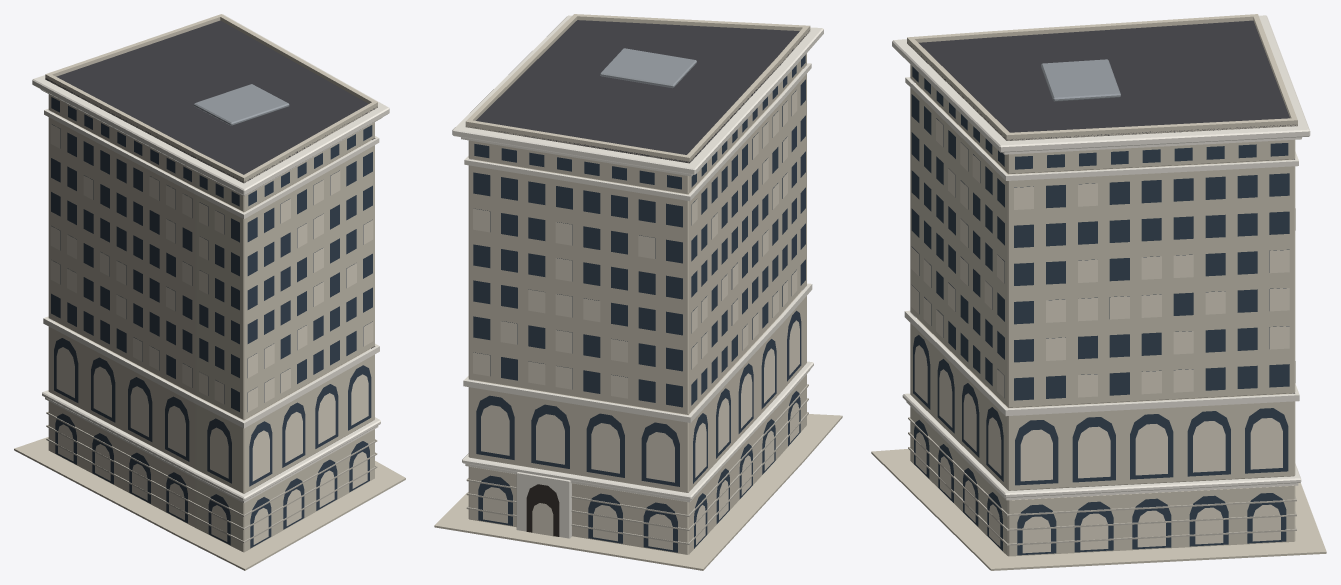
Rendered from first-national-bank-building.glb.
3 renders of one model, left to right at view 1: azimuth 30°, elevation 25°; view 2: azimuth 150°, elevation 25°; view 3: azimuth 270°, elevation 25°, orthographic. The views are drawn at different scales.
Visible parts, largest first — view 1: first-national-bank-building_body, first-national-bank-building_night_glow; view 2: first-national-bank-building_body, first-national-bank-building_night_glow; view 3: first-national-bank-building_body, first-national-bank-building_night_glow.
Boxes of the visible parts, left/top/right/bottom form: first-national-bank-building_body: left=14, top=14, right=405, bottom=570; first-national-bank-building_night_glow: left=50, top=124, right=373, bottom=544; first-national-bank-building_body: left=434, top=14, right=842, bottom=570; first-national-bank-building_night_glow: left=473, top=90, right=799, bottom=550; first-national-bank-building_body: left=871, top=14, right=1326, bottom=570; first-national-bank-building_night_glow: left=911, top=118, right=1295, bottom=553.
Size of the model in its own units: 31.45 by 43 by 41.83.
